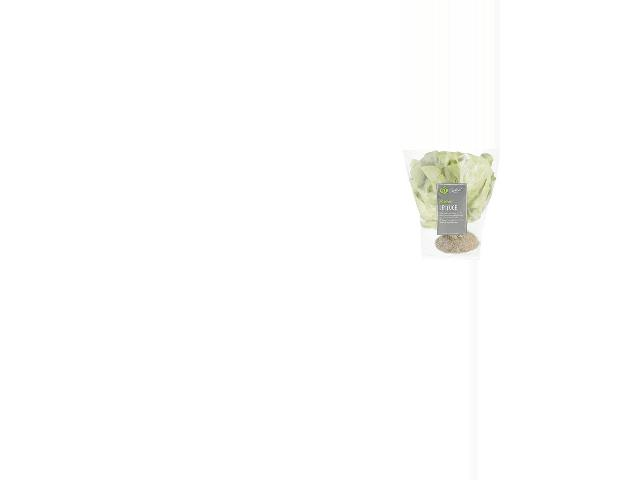lettuce: (405, 149, 499, 260)
